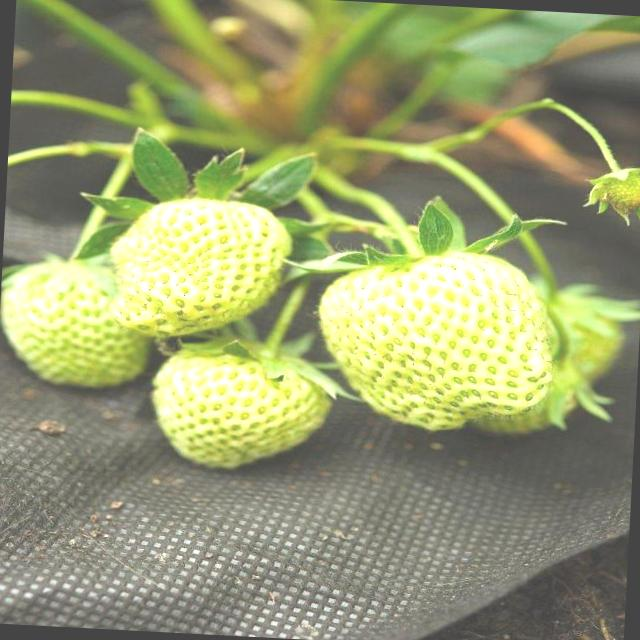Strawberry: (313, 240, 552, 438), (105, 190, 292, 344), (149, 336, 332, 472), (0, 252, 151, 390)
